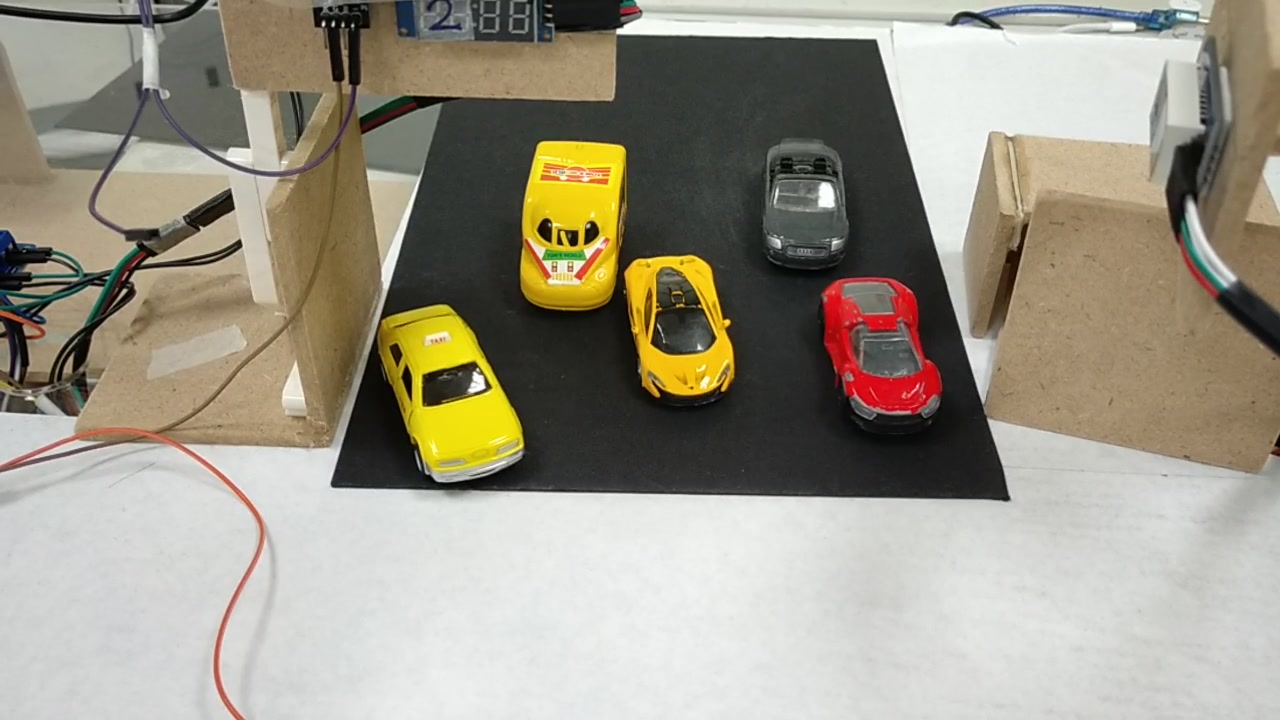car: (375, 310, 531, 486), (818, 278, 947, 426), (619, 258, 739, 406), (753, 145, 848, 266)
